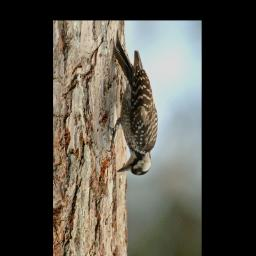Woodpecker: (106, 30, 159, 180)
